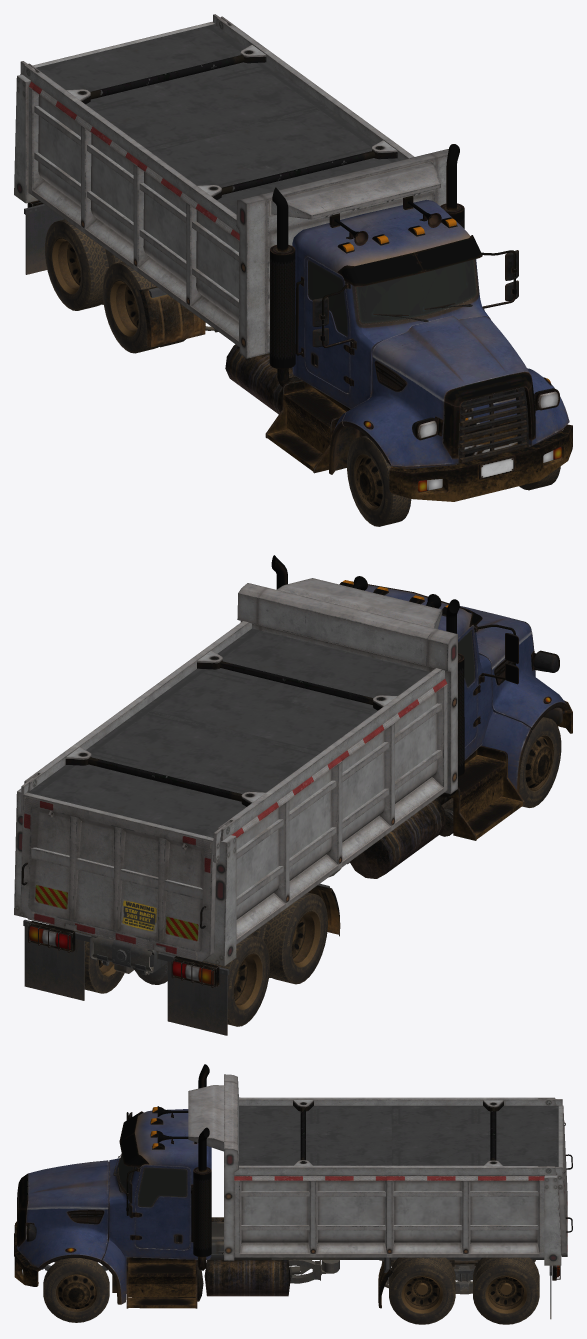
File: Truck.fbx
3 renders of one model, top to bottom at view 1: azimuth 30°, elevation 25°; view 2: azimuth 150°, elevation 25°; view 3: azimuth 270°, elevation 25°, orthographic. The views are drawn at different scales.
Visible parts, largest first — view 1: Carriage, Body, Door_R, BackTyre1_R, TyreFront_R, BackTyre_R, HeadLightCover; view 2: Carriage, Body, BackTyre_R, BackTyre1_R, TyreFront_R, Door_R, BackTyre1_L; view 3: Carriage, Body, Door_L, BackTyre1_L, BackTyre_L, TyreFront_L.
Boxes of the visible parts, box(x1,y1,x2,y2) form: Carriage: box(14, 14, 448, 358); Body: box(24, 144, 572, 501); Door_R: box(304, 256, 354, 393); BackTyre1_R: box(45, 219, 122, 310); TyreFront_R: box(347, 435, 411, 526); BackTyre_R: box(103, 261, 185, 353); HeadLightCover: box(419, 392, 558, 490); Carriage: box(14, 578, 457, 966); Body: box(23, 555, 572, 1035); BackTyre_R: box(250, 892, 327, 984); BackTyre1_R: box(185, 935, 269, 1026); TyreFront_R: box(519, 717, 561, 807); Door_R: box(458, 626, 480, 747); BackTyre1_L: box(49, 924, 124, 993); Carriage: box(188, 1074, 572, 1265); Body: box(14, 1064, 560, 1319); Door_L: box(130, 1165, 190, 1250); BackTyre1_L: box(473, 1257, 539, 1324); BackTyre_L: box(389, 1257, 455, 1324); TyreFront_L: box(43, 1258, 109, 1322).
Size of the model in its own units: 119 by 146 by 376.
6 materials, 6 textured.
